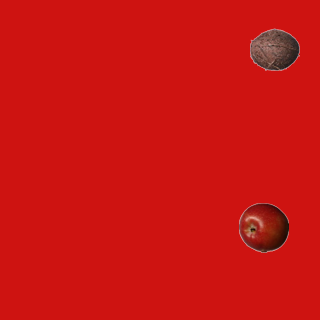Apple Braeburn: (238, 202, 288, 252)
Cocos: (249, 24, 299, 74)
